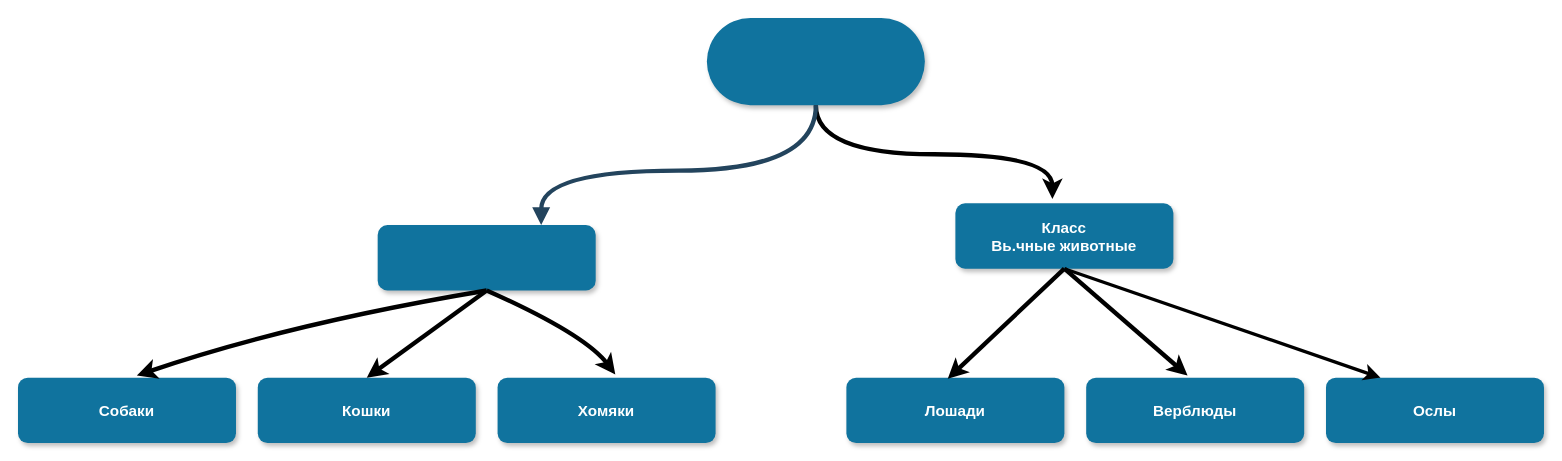
Image size: 1562x461. Some labels were removed from this diagram. The shapes that lost their labels are listed below. From the top down, each one's centre as x and y in pixels, then its label:
At pixel 816 62: "Класс Животные".
At pixel 487 259: "Класс Домашнии животные".
